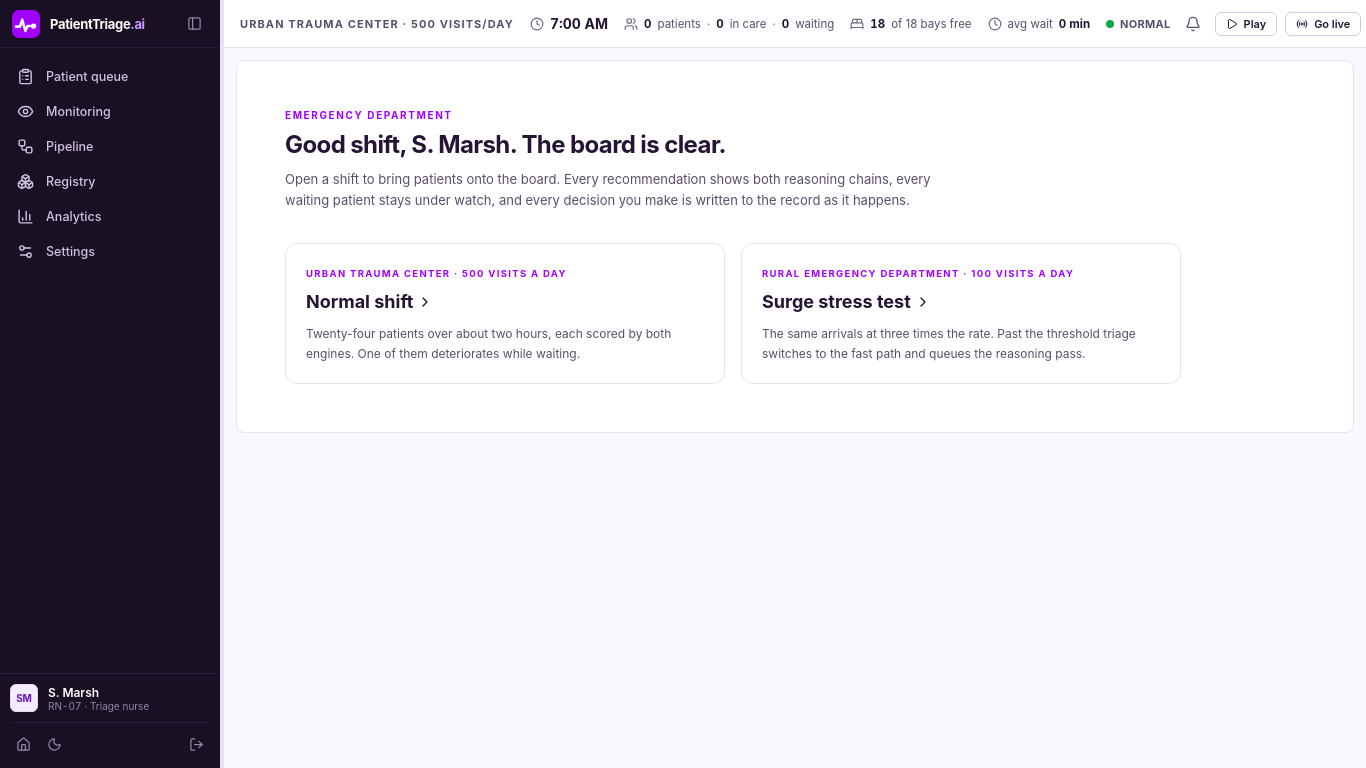
Test: a shift running unattended › stops auto-play when stepping starts failing
Click the text "Normal shift".
click(370, 302)  # box x1=306 y1=291 x2=434 y2=312
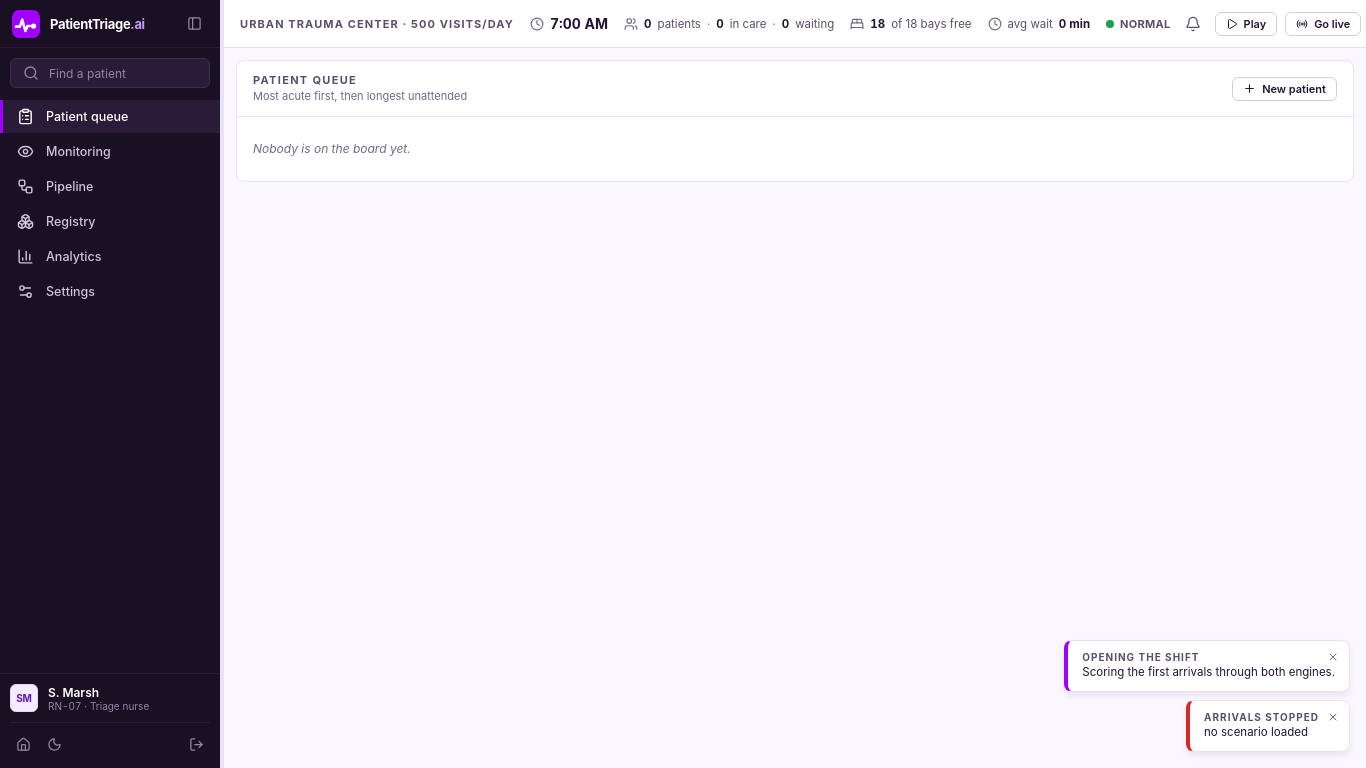
Now the text "Arrivals stopped" is shown, box x1=1204 y1=711 x2=1335 y2=723
